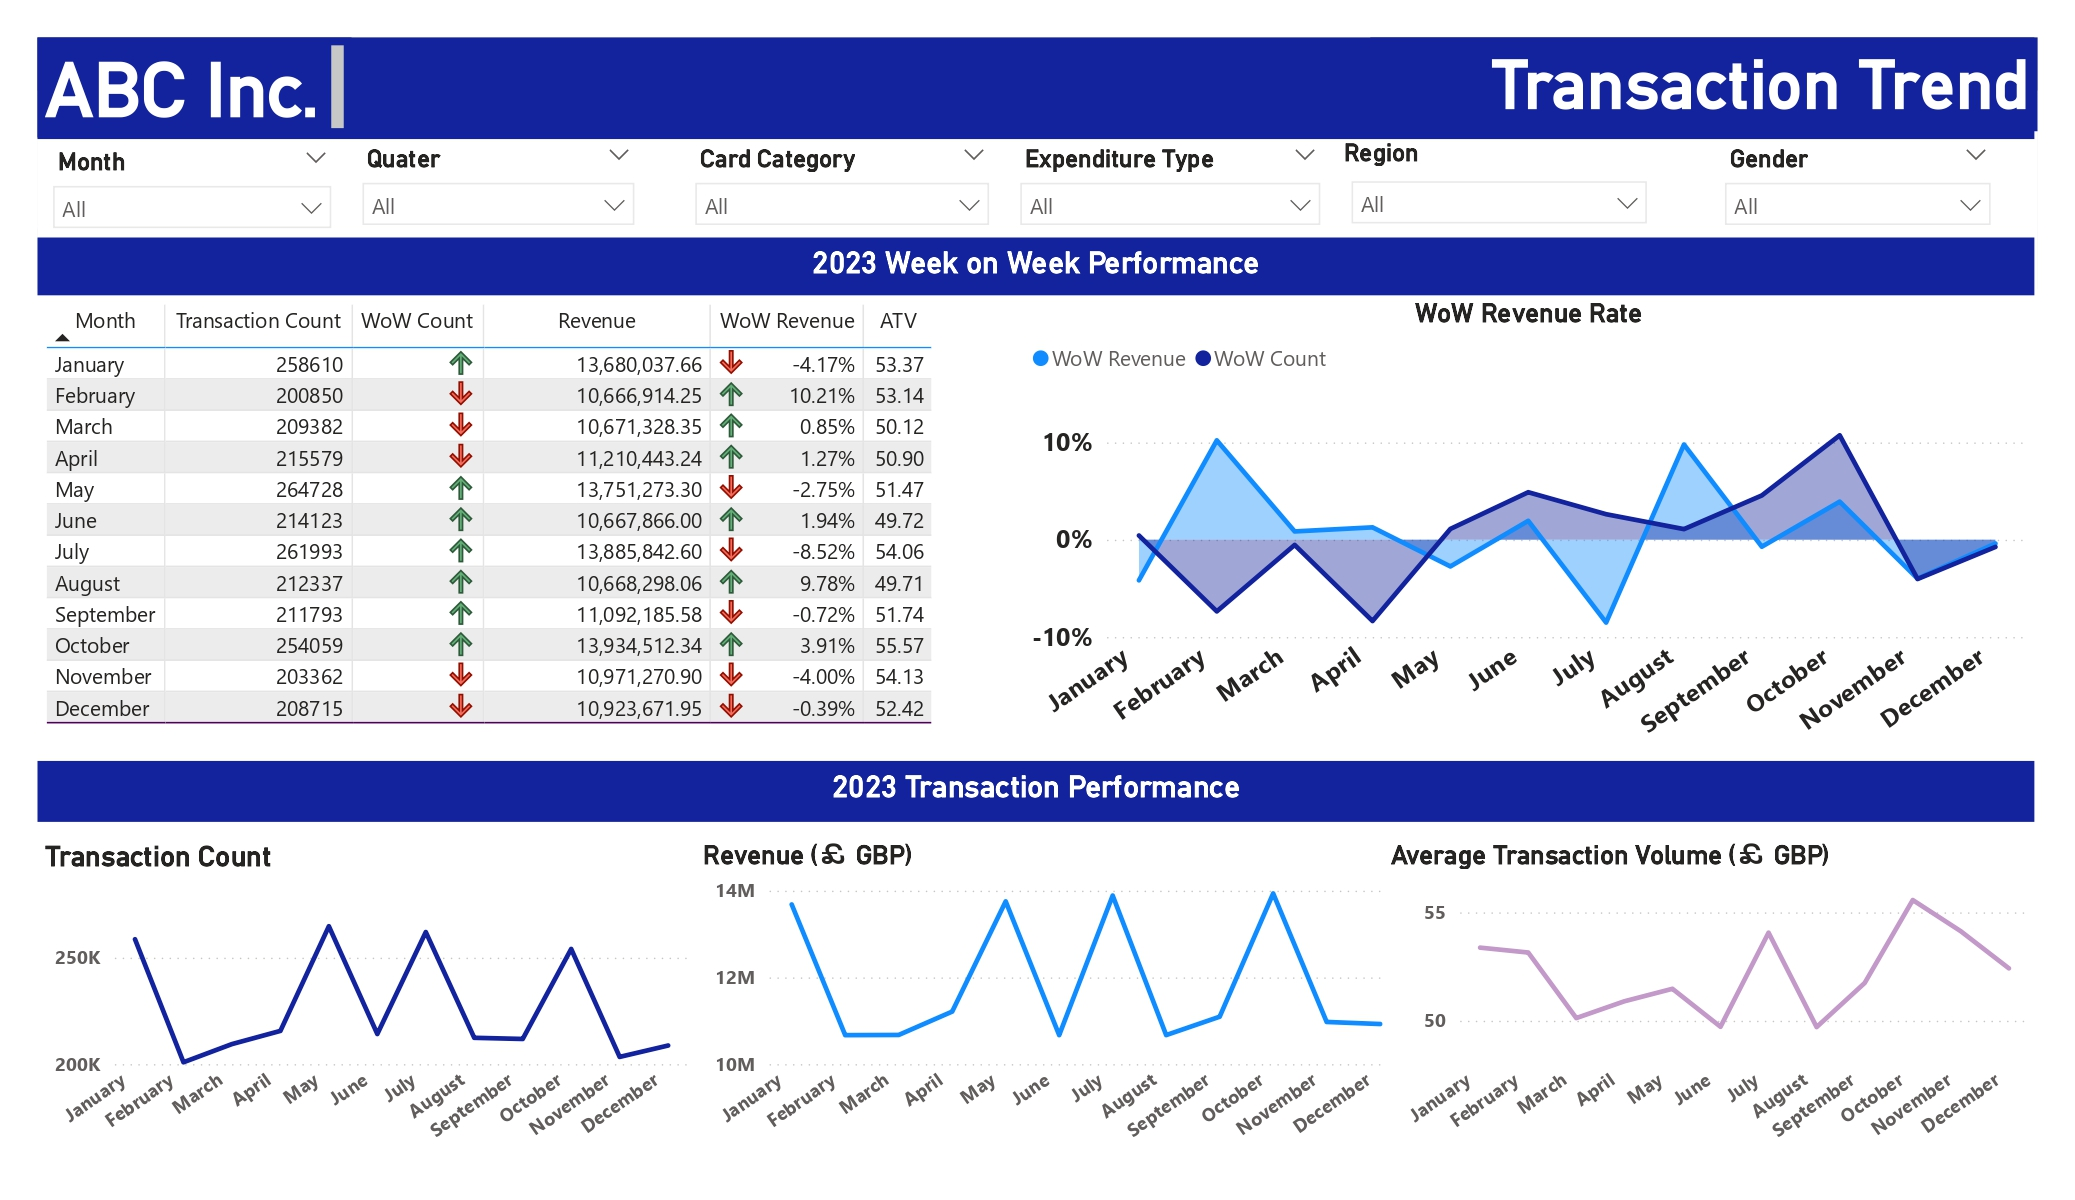

The dashboard page shown, as its layout file describes it:
{"tool":"powerbi","page":{"name":"Transaction Trend","canvas":[1280,720],"ordinal":1},"visuals":[{"type":"tableEx","title":"Transaction Count","fields":{"Values":["credit_card_detail_1103.Week_Start_Date.Variation.Date Hierarchy.Month","Sum(credit_card_detail_1103.Total_Trans_CT)","credit_card_detail_1103.WoW_count_order_RATE","Sum(credit_card_detail_1103.Total_Revenue)","credit_card_detail_1103.MoM_Revenue_RATE","credit_card_detail_1103.MoM_ATV"]},"box":[0,165.5,631,297.9],"z":0},{"type":"lineChart","title":"Transaction Count","fields":{"Category":["credit_card_detail_1103.Week_Start_Date.Variation.Date Hierarchy.Month"],"Y":["Sum(credit_card_detail_1103.Total_Trans_CT)"]},"box":[0,513.3,421,207.3],"z":1000},{"type":"lineChart","title":"Revenue (￡ GBP)","fields":{"Category":["credit_card_detail_1103.Week_Start_Date.Variation.Date Hierarchy.Month"],"Y":["Sum(credit_card_detail_1103.Total_Revenue)"]},"box":[421,513.3,456.6,207.3],"z":2000},{"type":"lineChart","title":"Average Transaction Volume (￡ GBP)","fields":{"Y":["credit_card_detail_1103.MoM_ATV"],"Category":["credit_card_detail_1103.Week_Start_Date.Variation.Date Hierarchy.Month"]},"box":[861.4,513.3,417.8,207.3],"z":3000},{"type":"lineChart","title":"WoW Revenue Rate","fields":{"Y":["credit_card_detail_1103.MoM_Revenue_RATE","credit_card_detail_1103.WoW_count_order_RATE"],"Category":["credit_card_detail_1103.Week_Start_Date.Variation.Date Hierarchy.Month"]},"box":[631,165.5,646.6,297.9],"z":4000},{"type":"textbox","box":[0,463.1,1277.6,38.9],"z":5000},{"type":"textbox","box":[0,127.9,1277.6,37.2],"z":6000},{"type":"slicer","fields":{"Values":["credit_card_detail_1103.Qtr"]},"box":[197.5,63.4,194.3,58.3],"z":7000},{"type":"slicer","fields":{"Values":["credit_card_detail_1103.Card_Category"]},"box":[411.3,63.4,207.3,58.3],"z":8000},{"type":"slicer","fields":{"Values":["customer_detail_1103.Gender"]},"box":[1070.3,63.4,189.4,56.7],"z":9000},{"type":"slicer","fields":{"Values":["credit_card_detail_1103.Exp_Type"]},"box":[618.5,63.4,212.1,58.3],"z":10000},{"type":"slicer","title":"Region","fields":{"Values":["customer_detail_1103.State_cd"]},"box":[831,64.5,208.7,55.5],"z":11000},{"type":"slicer","fields":{"Values":["credit_card_detail_1103.Month"]},"box":[0,65,197.5,56.7],"z":12000},{"type":"shape","box":[0,0,1277.9,65.4],"z":13000},{"type":"textbox","box":[853.4,0,426.3,60],"z":14000},{"type":"textbox","box":[0,0,200.6,63.6],"z":15000}]}

Visuals, with their boxes in screenshot pixels (x1, y1, x2, y2):
"Transaction Count" tableEx: <region>38, 296, 1023, 762</region>
"Transaction Count" lineChart: <region>38, 840, 695, 1162</region>
"Revenue (￡ GBP)" lineChart: <region>695, 840, 1409, 1162</region>
"Average Transaction Volume (￡ GBP)" lineChart: <region>1383, 840, 2036, 1162</region>
"WoW Revenue Rate" lineChart: <region>1023, 296, 2034, 762</region>
textbox: <region>38, 761, 2034, 822</region>
textbox: <region>38, 237, 2034, 295</region>
slicer - credit_card_detail_1103.Qtr: <region>346, 137, 650, 228</region>
slicer - credit_card_detail_1103.Card_Category: <region>680, 137, 1004, 228</region>
slicer - customer_detail_1103.Gender: <region>1710, 137, 2006, 225</region>
slicer - credit_card_detail_1103.Exp_Type: <region>1004, 137, 1335, 228</region>
"Region" slicer: <region>1336, 138, 1662, 225</region>
slicer - credit_card_detail_1103.Month: <region>38, 139, 346, 228</region>
shape: <region>38, 38, 2034, 140</region>
textbox: <region>1371, 38, 2037, 131</region>
textbox: <region>38, 38, 351, 137</region>
